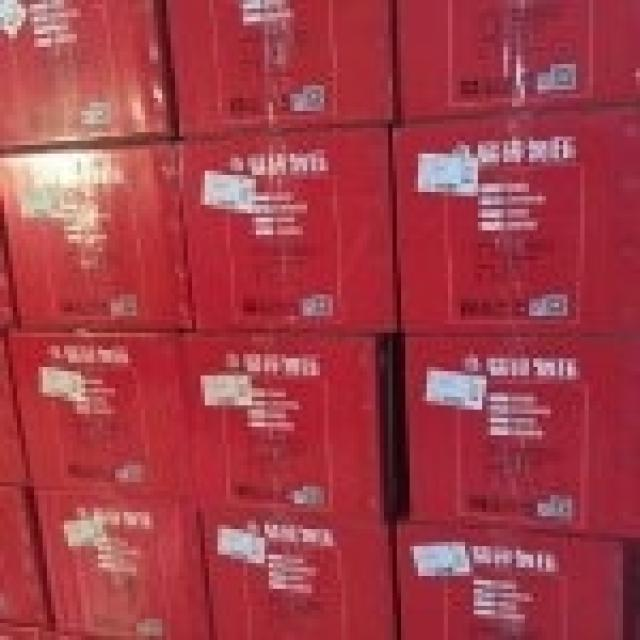box: (391, 107, 636, 333), (396, 329, 636, 538), (179, 124, 400, 334), (188, 332, 401, 519), (1, 141, 195, 333), (164, 1, 397, 139), (1, 331, 199, 488), (392, 0, 636, 122), (194, 495, 399, 636), (393, 523, 632, 636), (0, 0, 178, 148), (35, 488, 209, 636), (0, 486, 51, 636), (0, 196, 24, 330), (0, 619, 55, 636)
